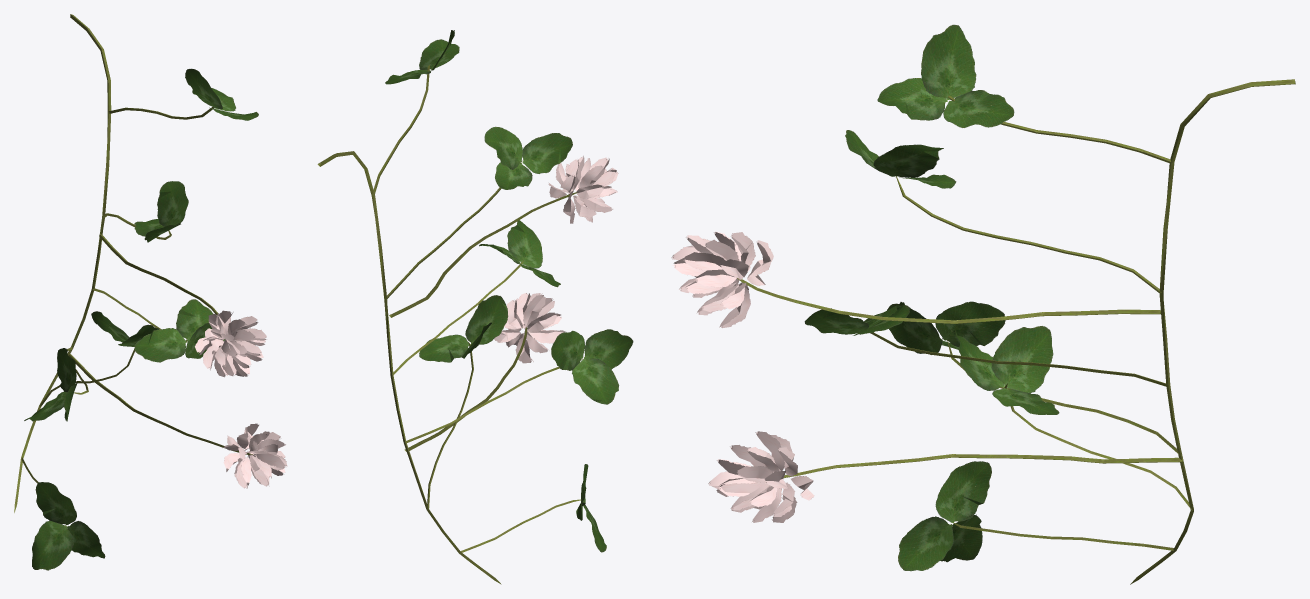
3 views of the same model, side by side, from view 1: azimuth 30°, elevation 25°; view 2: azimuth 150°, elevation 25°; view 3: azimuth 270°, elevation 25° (orthographic). The views are drawn at different scales.
Visible parts, largest first — view 1: GC18_1; view 2: GC18_1; view 3: GC18_1.
Boxes of the visible parts, x1,y1,x2,y2 form: GC18_1: [14, 14, 287, 570]; GC18_1: [317, 30, 633, 584]; GC18_1: [671, 24, 1295, 584].
Bounding box in the file's own units: 0.612 × 1.2 × 1.03.
Materials: 3 (3 with a texture image).
